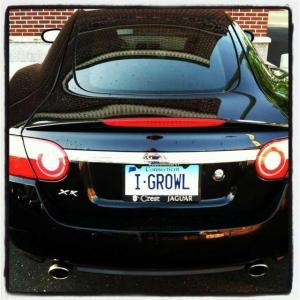Plate: (125, 165, 199, 196)
